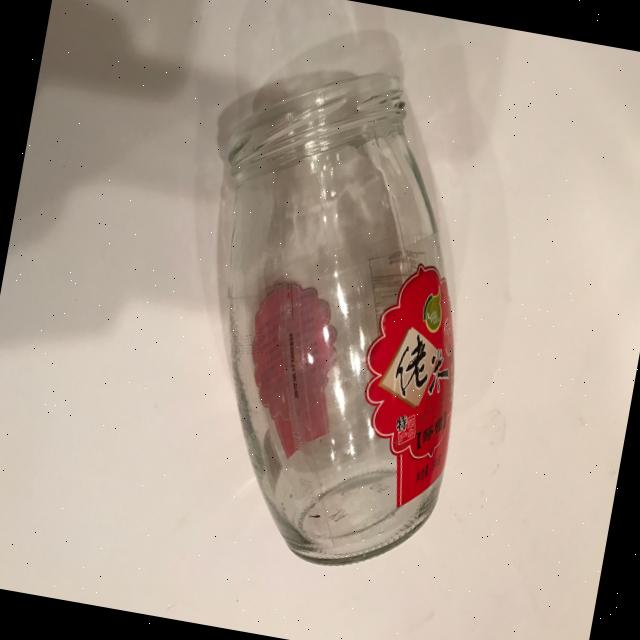glass: (144, 41, 512, 584)
